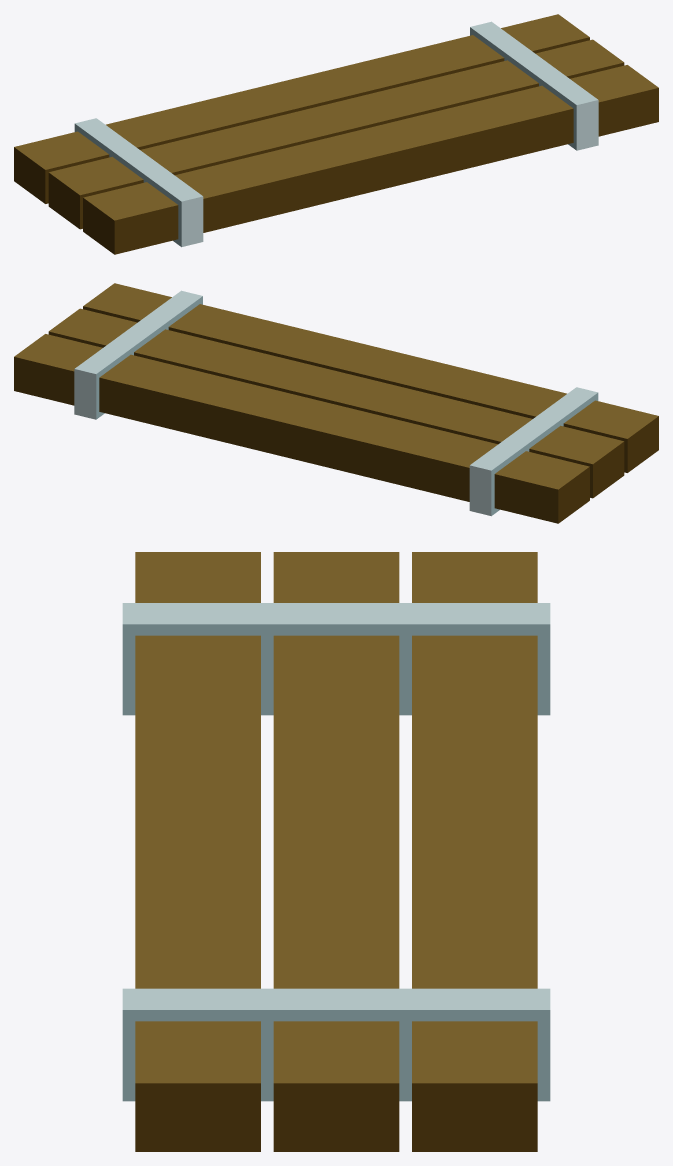
File: PlankBridge.fbx
3 renders of one model, top to bottom at view 1: azimuth 30°, elevation 25°; view 2: azimuth 150°, elevation 25°; view 3: azimuth 270°, elevation 25°, orthographic. The views are drawn at different scales.
Parts seen in each view (by area): view 1: PlankBridge; view 2: PlankBridge; view 3: PlankBridge.
Boxes of the visible parts, box(x1,y1,x2,y2) form: PlankBridge: box(14, 14, 658, 254); PlankBridge: box(14, 283, 658, 523); PlankBridge: box(122, 552, 550, 1151).
Bounding box in the file's own units: 50 × 17 × 4.
